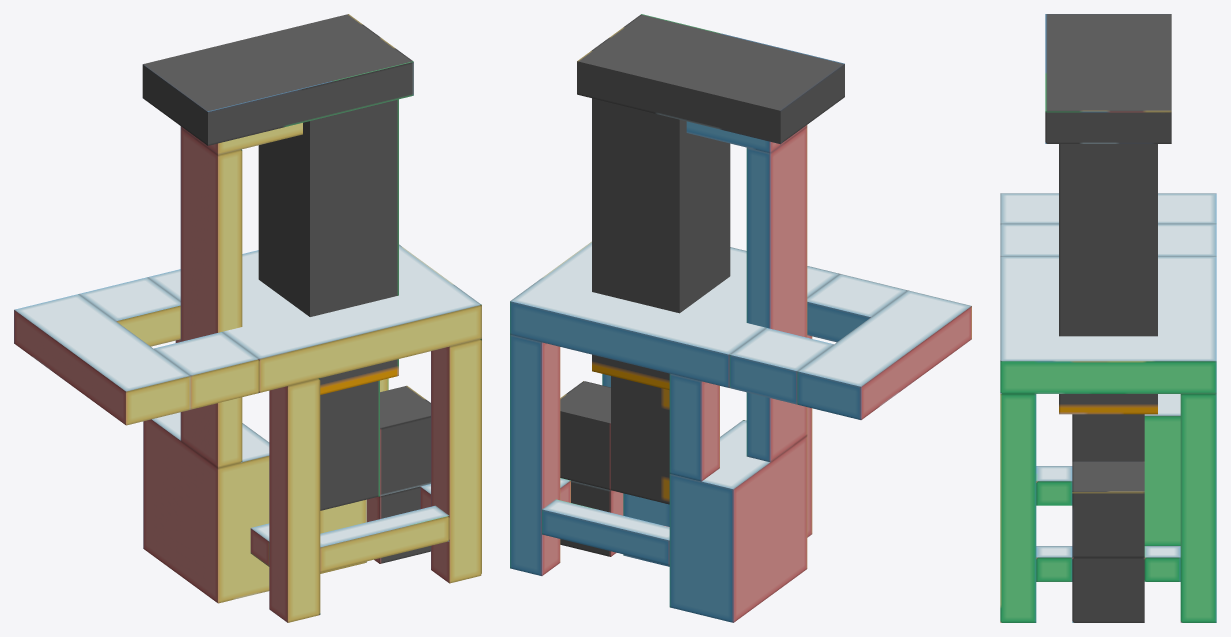
Rendered from core_drill.obj.
The picture shows the model from 3 angles, left to right: view 1: azimuth 30°, elevation 25°; view 2: azimuth 150°, elevation 25°; view 3: azimuth 270°, elevation 25°; orthographic projection. The views are drawn at different scales.
Parts seen in each view (by area): view 1: cube; view 2: cube; view 3: cube.
Boxes of the visible parts, x1=… form: cube: x1=14, y1=14, x2=481, y2=622; cube: x1=510, y1=14, x2=971, y2=622; cube: x1=1000, y1=14, x2=1216, y2=622.
Size of the model in its own units: 5.5 by 7.5 by 3.
